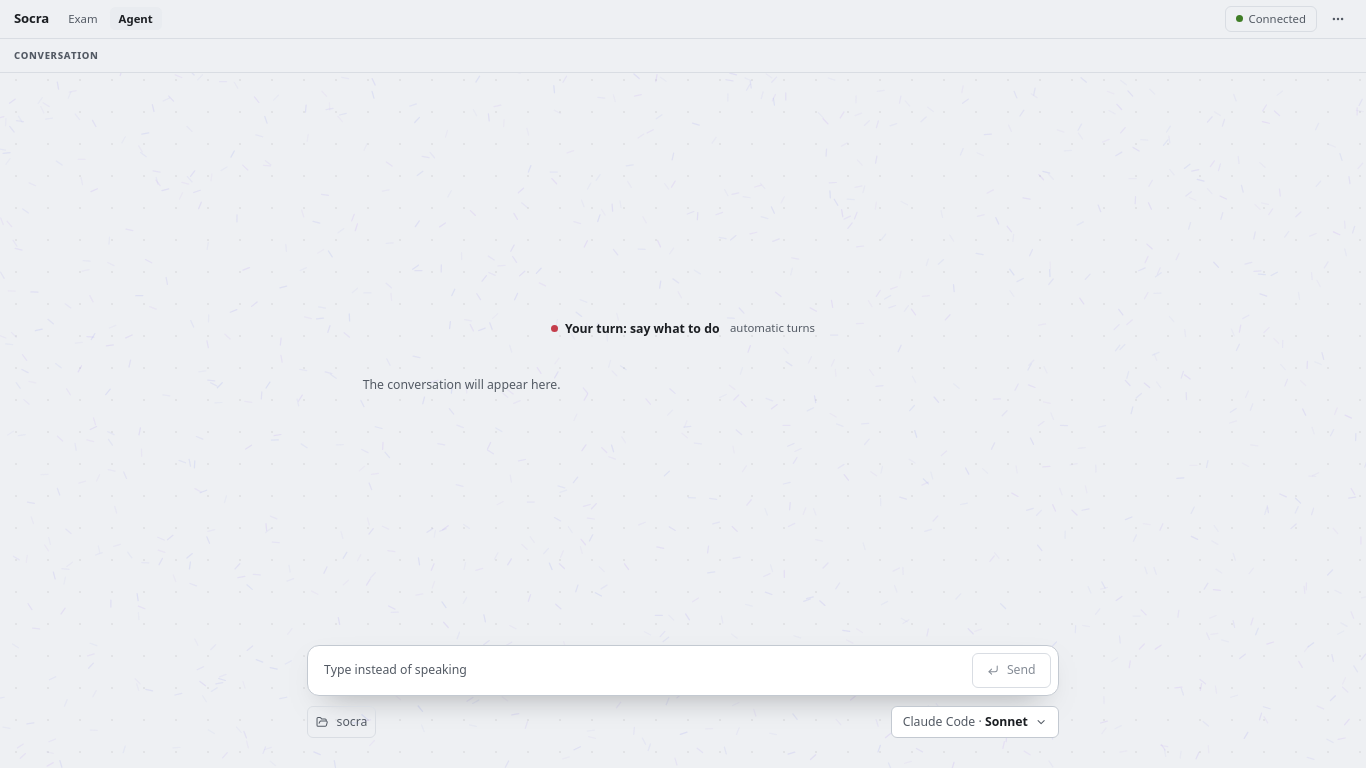
Test: AgentApp › starts the selected agent before sending the first turn and keeps it visible while startup is pending
The width and height of the screenshot is (1366, 768).
Type "list the files" into the field named "Message the agent" at (639, 670), box left=315, top=653, right=964, bottom=688
Then press Enter
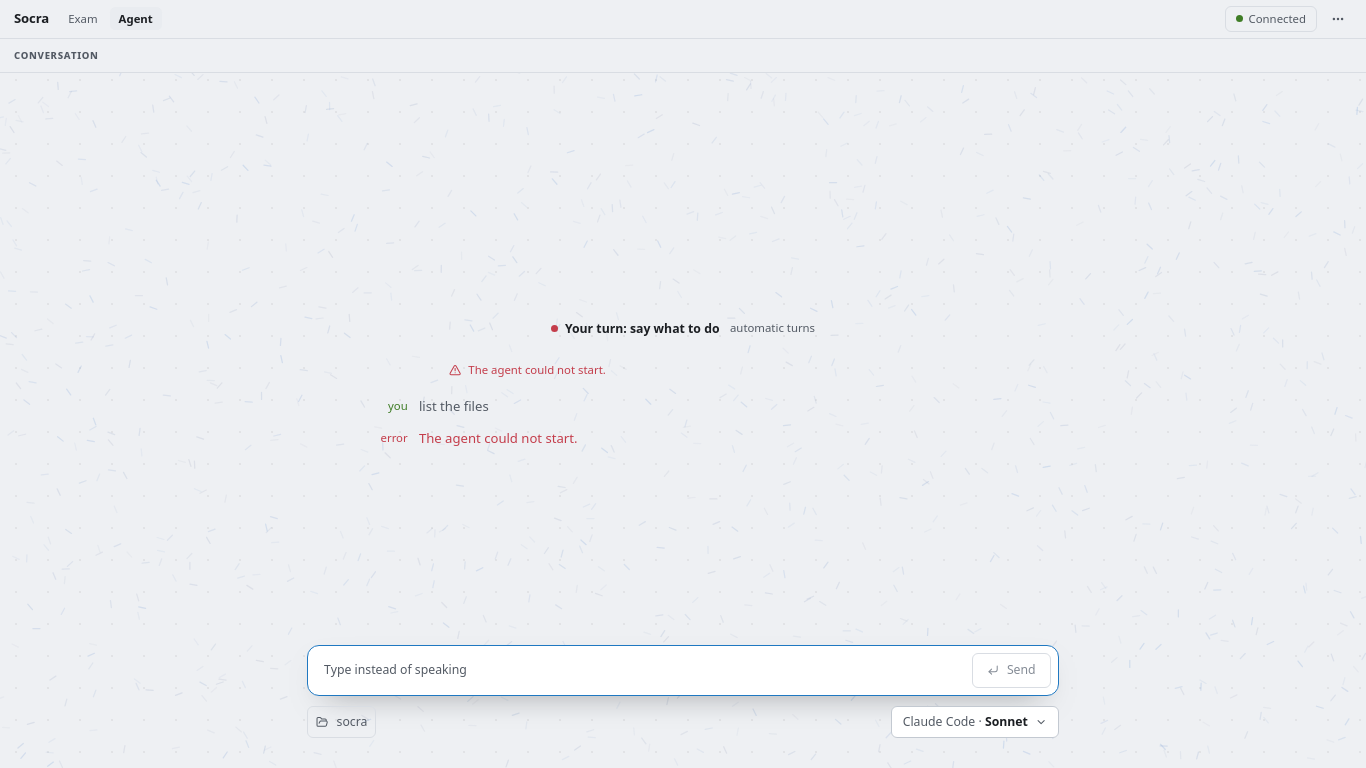
Expected: the list named "Conversation" shows "list the files", left=419, top=397, right=489, bottom=415
Expected: the list named "Conversation" shows "The agent could not start.", left=419, top=429, right=578, bottom=447
